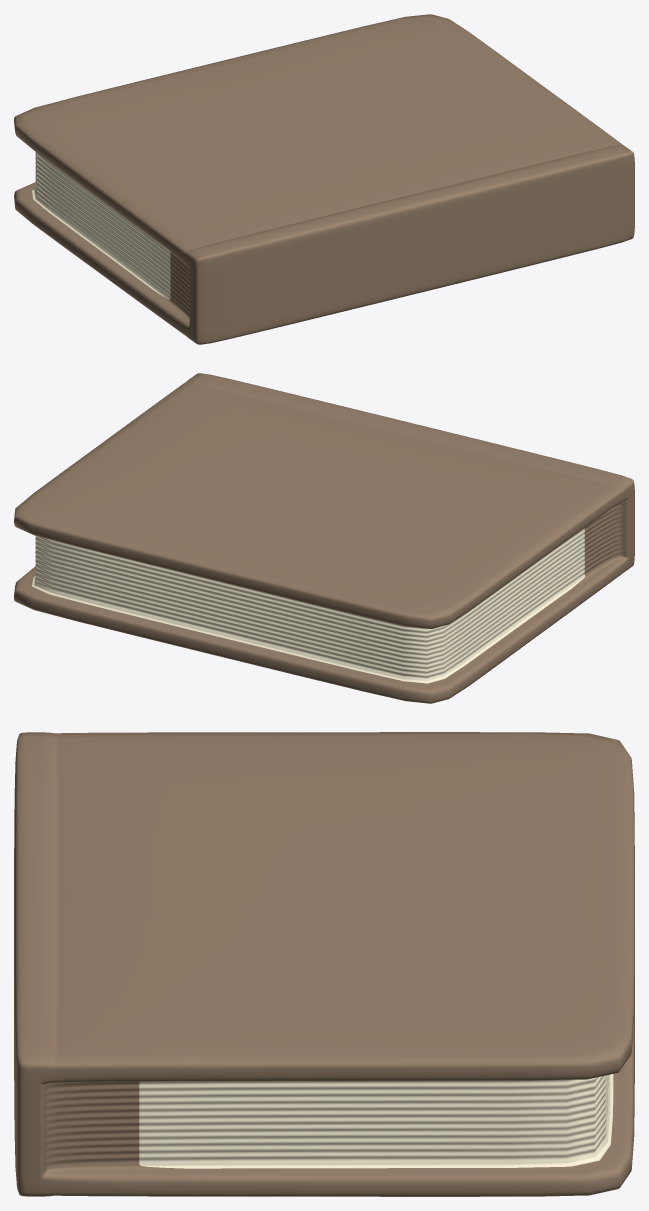
File: SM_Livre_1_HP.fbx
The picture shows the model from 3 angles, top to bottom: view 1: azimuth 30°, elevation 25°; view 2: azimuth 150°, elevation 25°; view 3: azimuth 270°, elevation 25°; orthographic projection. The views are drawn at different scales.
Parts seen in each view (by area): view 1: SM_Livre_1_HP; view 2: SM_Livre_1_HP; view 3: SM_Livre_1_HP.
Boxes of the visible parts, left/top/right/bottom form: SM_Livre_1_HP: left=14, top=14, right=634, bottom=344; SM_Livre_1_HP: left=14, top=373, right=634, bottom=703; SM_Livre_1_HP: left=14, top=732, right=634, bottom=1196.
Bounding box in the file's own units: 22.41 × 4.42 × 17.62.
